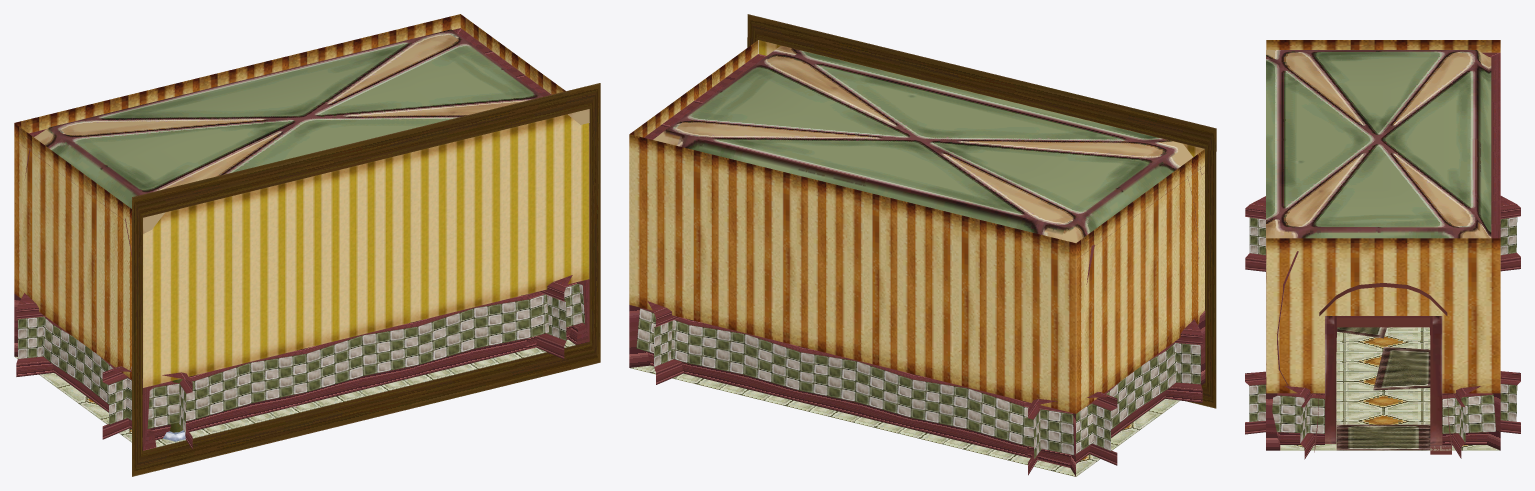
File: room_42.glb
The picture shows the model from 3 angles, left to right: view 1: azimuth 30°, elevation 25°; view 2: azimuth 150°, elevation 25°; view 3: azimuth 270°, elevation 25°; orthographic projection. The views are drawn at different scales.
Parts seen in each view (by area): view 1: room_42; view 2: room_42; view 3: room_42.
Part boxes in pixels (x1=…): room_42: x1=14, y1=14, x2=600, y2=476; room_42: x1=629, y1=14, x2=1216, y2=476; room_42: x1=1245, y1=40, x2=1520, y2=459.
Size of the model in its own units: 1089 by 599 by 588.
Materials: 14 (14 with a texture image).
